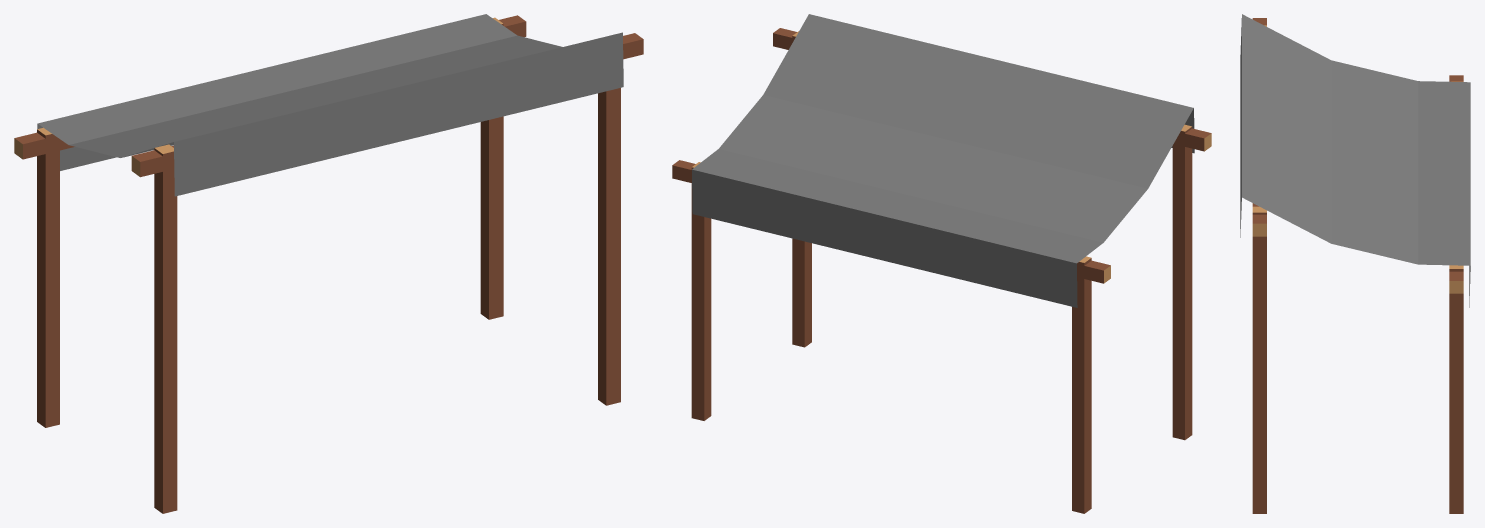
The model's file is Canopy.fbx.
3 views of the same model, side by side, from view 1: azimuth 30°, elevation 25°; view 2: azimuth 150°, elevation 25°; view 3: azimuth 270°, elevation 25° (orthographic). The views are drawn at different scales.
Parts seen in each view (by area): view 1: Canopy; view 2: Canopy; view 3: Canopy.
Part boxes in pixels (bbox=[...]): Canopy: bbox=[14, 14, 643, 513]; Canopy: bbox=[672, 14, 1211, 513]; Canopy: bbox=[1240, 14, 1470, 513].
Bounding box in the file's own units: 1.36 × 0.9712 × 0.6444.
